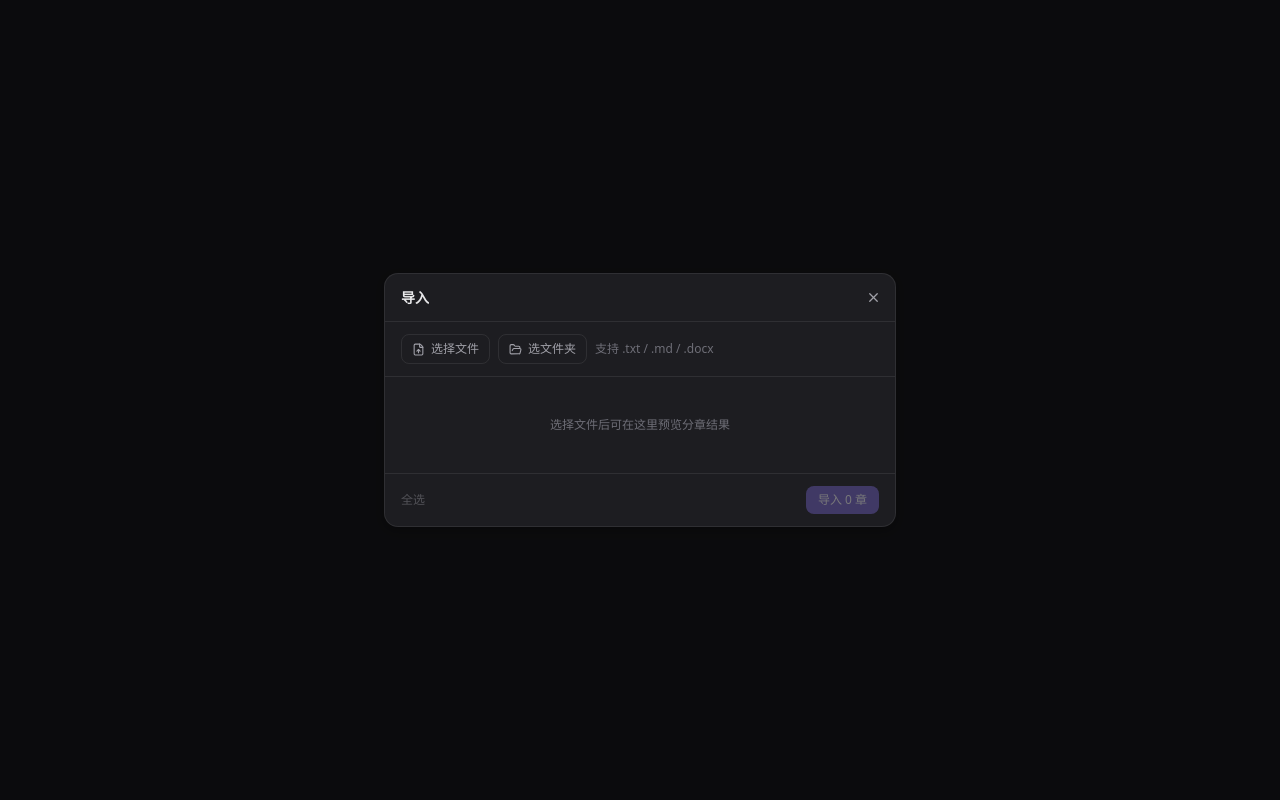
Test: ImportWizard › 选文件后预览分章、按卷分组、默认全选
This screenshot has width=1280, height=800.
Click the button "选择文件" at coordinates (446, 349), box [401, 334, 490, 364]
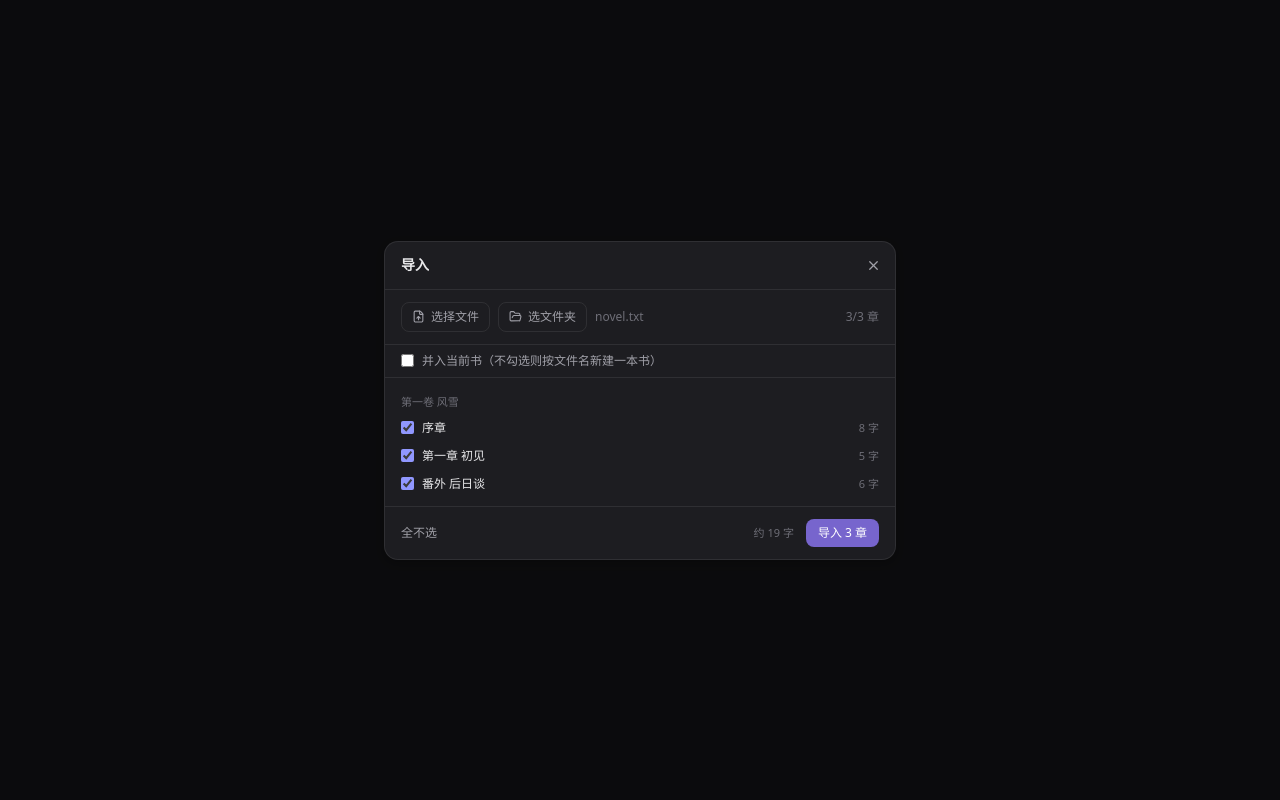
Now the text "序章" is shown, box [422, 418, 446, 436]
Now the text "第一章 初见" is shown, box [422, 446, 485, 464]
Now the text "第一卷 风雪" is shown, box [401, 394, 459, 408]
